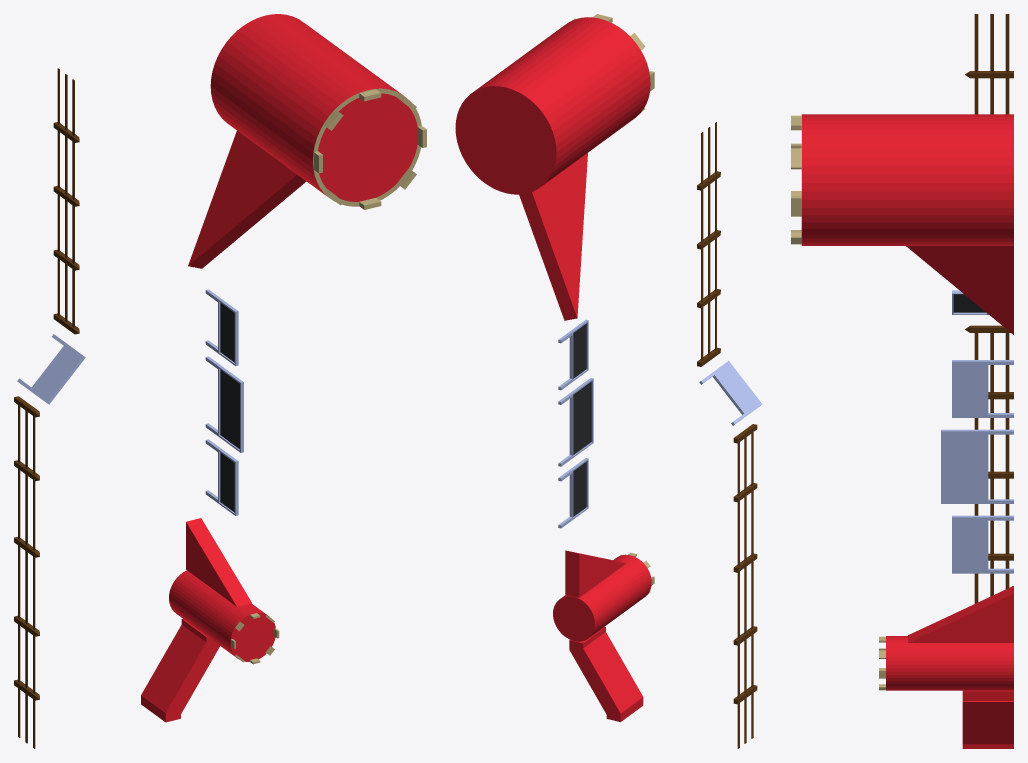
The model's file is castle-hill-1-complex.obj.
3 renders of one model, left to right at view 1: azimuth 30°, elevation 25°; view 2: azimuth 150°, elevation 25°; view 3: azimuth 270°, elevation 25°, orthographic. The views are drawn at different scales.
Visible parts, largest first — view 1: group_0_15277357, group_0_6306067, group_0_11452141, group_0_2829873, group_0_12759680; view 2: group_0_15277357, group_0_6306067, group_0_11452141, group_0_2829873; view 3: group_0_15277357, group_0_11452141, group_0_6306067, group_0_12759680, group_0_2829873.
Part boxes in pixels (x1,y1,x2,y2): group_0_15277357: [141, 14, 417, 722]; group_0_6306067: [14, 68, 79, 748]; group_0_11452141: [17, 289, 243, 515]; group_0_2829873: [220, 302, 239, 512]; group_0_12759680: [231, 88, 426, 664]; group_0_15277357: [455, 17, 651, 721]; group_0_6306067: [697, 122, 757, 748]; group_0_11452141: [558, 319, 762, 528]; group_0_2829873: [573, 323, 591, 516]; group_0_15277357: [802, 114, 1013, 748]; group_0_11452141: [941, 290, 1013, 573]; group_0_6306067: [965, 14, 1013, 603]; group_0_12759680: [791, 114, 885, 690]; group_0_2829873: [953, 294, 985, 312].
Bounding box in the file's own units: 100 × 206 × 61.
